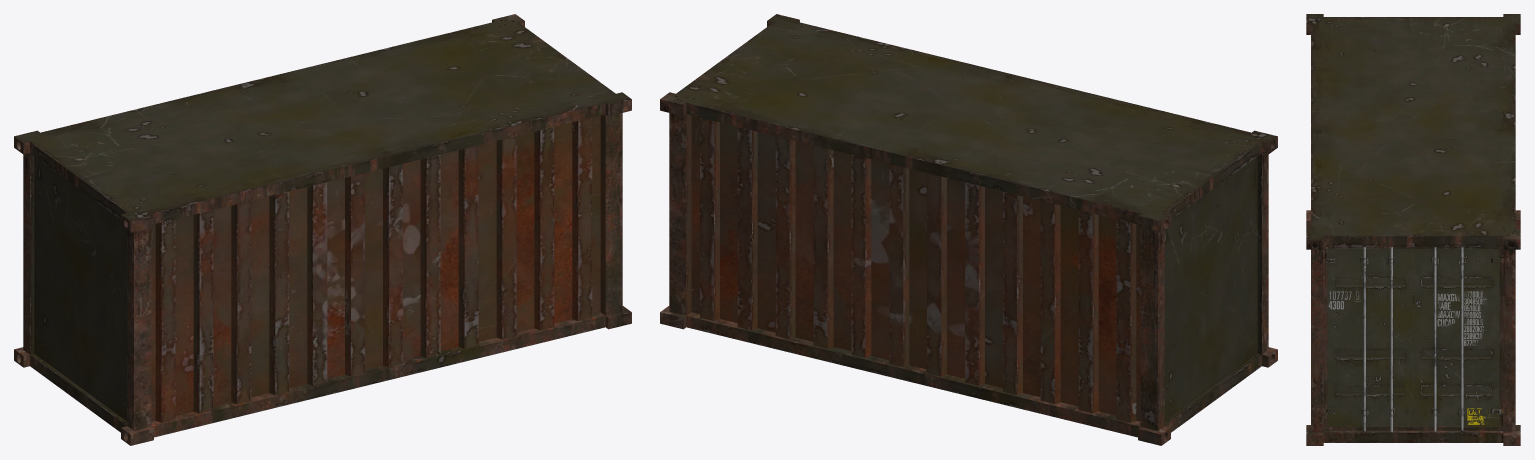
The model's file is container.glb.
The picture shows the model from 3 angles, left to right: view 1: azimuth 30°, elevation 25°; view 2: azimuth 150°, elevation 25°; view 3: azimuth 270°, elevation 25°; orthographic projection. The views are drawn at different scales.
Visible parts, largest first — view 1: frame_frame_0, left side_corrugated sides_0; view 2: frame_frame_0, right side_corrugated sides_0; view 3: frame_frame_0, right door_front doors_0, left door_front doors_0, doors.004_front doors_0, doors.001_front doors_0, doors.002_front doors_0, doors.005_front doors_0, left side_corrugated sides_0.
Part boxes in pixels (x1,y1,x2,y2): frame_frame_0: (14, 14, 631, 445); left side_corrugated sides_0: (151, 114, 605, 422); frame_frame_0: (660, 14, 1277, 445); right side_corrugated sides_0: (686, 114, 1140, 422); frame_frame_0: (1306, 14, 1520, 445); right door_front doors_0: (1413, 248, 1501, 426); left door_front doors_0: (1325, 248, 1413, 426); doors.004_front doors_0: (1363, 247, 1368, 432); doors.001_front doors_0: (1458, 247, 1463, 431); doors.002_front doors_0: (1433, 247, 1439, 432); doors.005_front doors_0: (1387, 247, 1393, 432); left side_corrugated sides_0: (1311, 35, 1311, 424).
Size of the model in its own units: 6.06 by 2.59 by 2.44.
3 materials, 3 textured.
